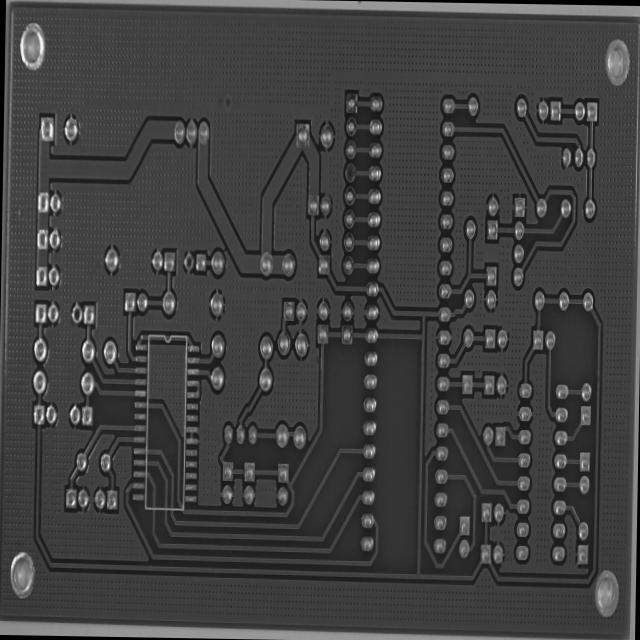missing_hole: (70, 298, 82, 324), (344, 162, 356, 184), (183, 248, 194, 272)
